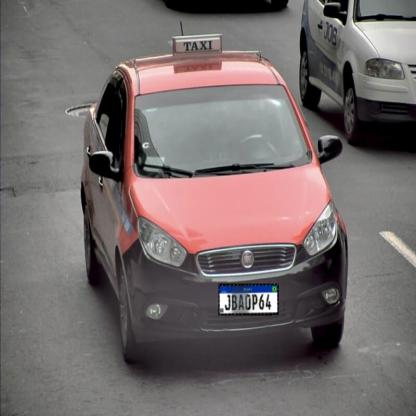PlacaM: (218, 284, 279, 316)
